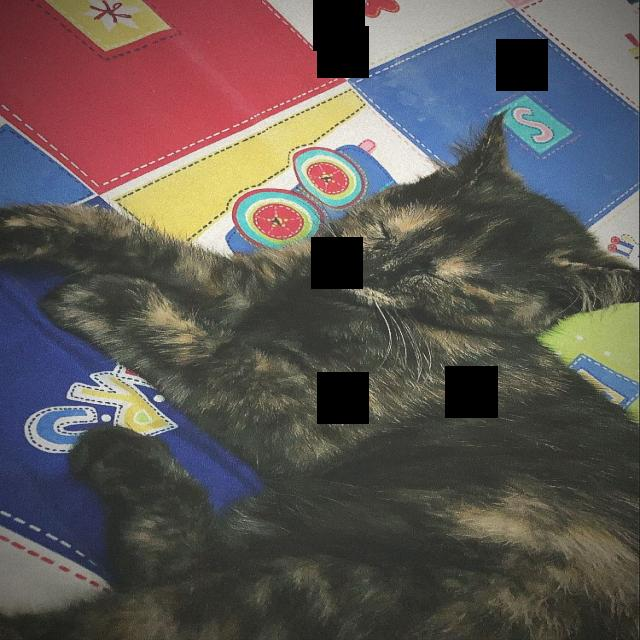authorized: (1, 110, 638, 638)
